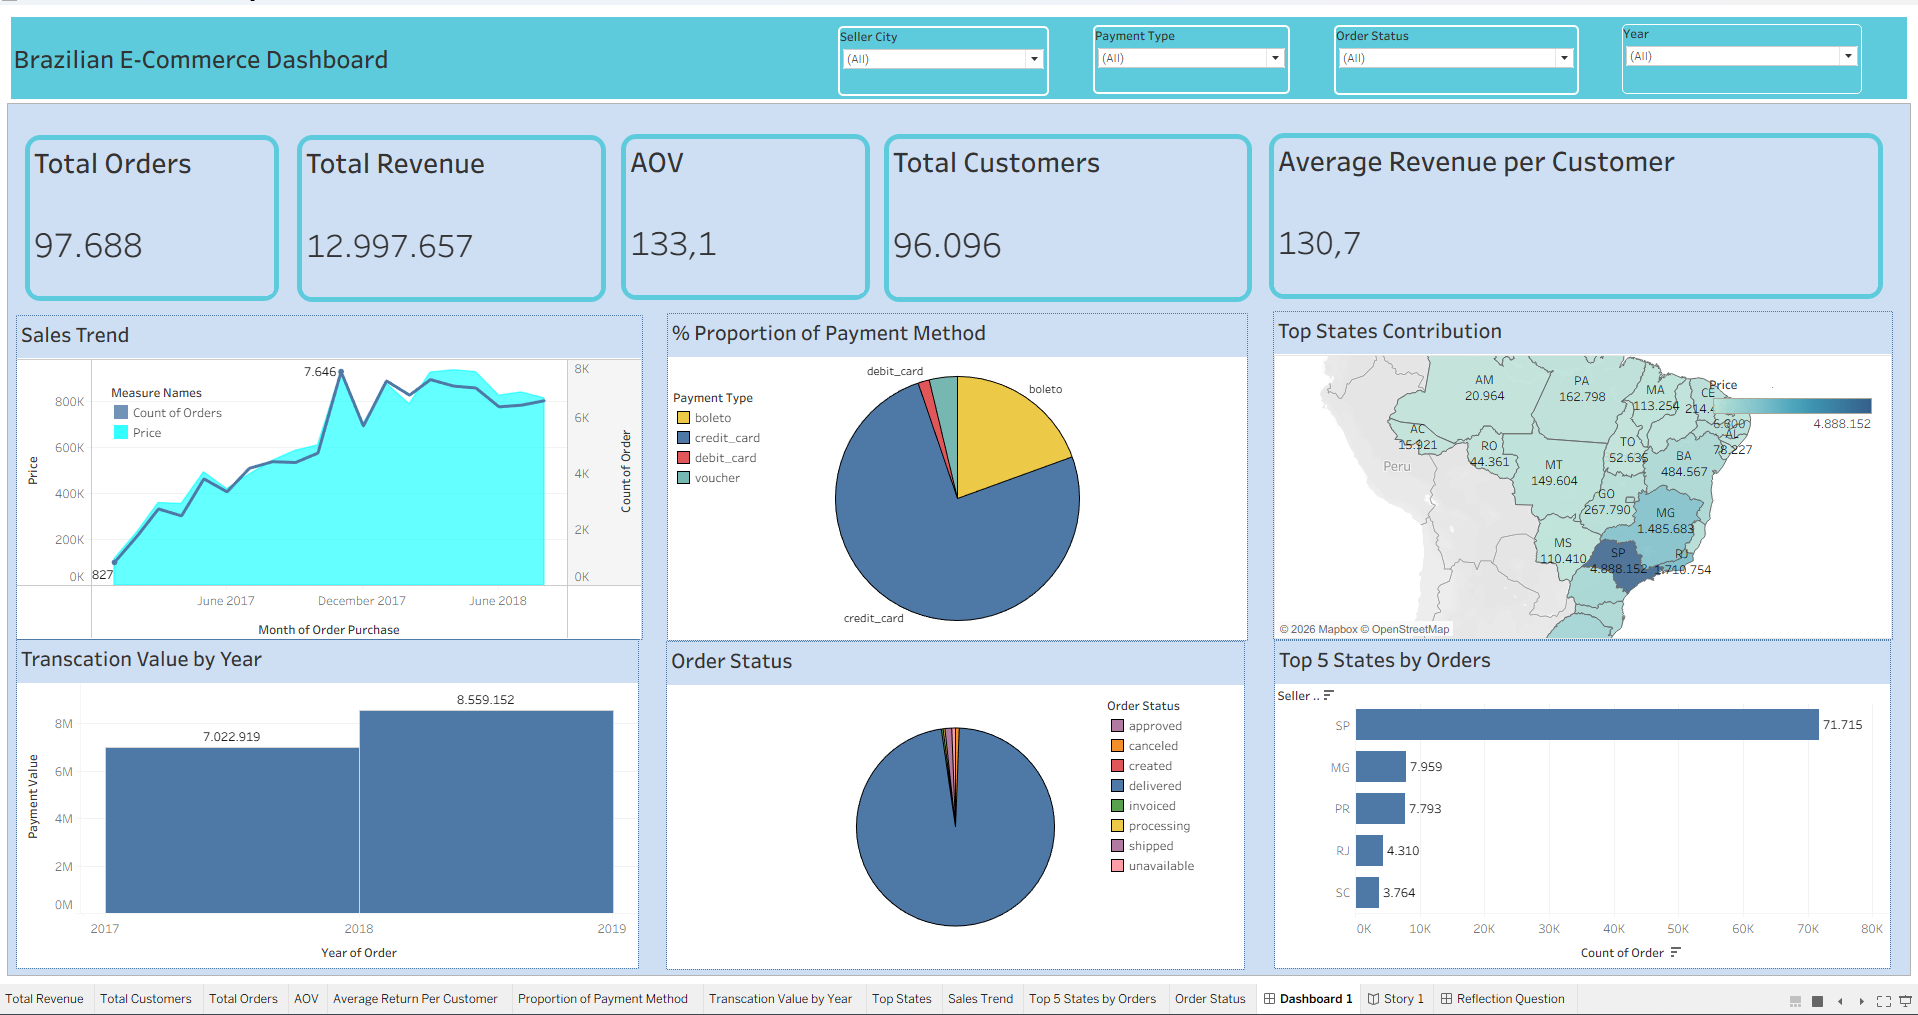

This screenshot's page, from the dashboard's own definition file:
{"tool":"tableau","page":{"name":"Dashboard 1","canvas":[1000,1000],"units":"permille","ordinal":0},"visuals":[{"type":"title","box":[4.7,8.9,990.6,100.5]},{"type":"filter","title":"Top 5 States by Orders","param":"[federated.03m56cd1unkf180zoet7000ny26o].[none:payment_type:nk]","box":[569.6,13.4,102.6,83.7]},{"type":"filter","title":"Total Orders","param":"[federated.03m56cd1unkf180zoet7000ny26o].[none:order_status:nk]","box":[695.3,14.5,127.5,82.6]},{"type":"filter","title":"Total Orders","param":"[federated.03m56cd1unkf180zoet7000ny26o].[yr:order_purchase_timestamp:ok]","box":[846.4,15.6,125,81.5]},{"type":"filter","title":"Top 5 States by Orders","param":"[federated.03m56cd1unkf180zoet7000ny26o].[none:seller_city:nk]","box":[437.2,17.9,110.1,81.5]},{"type":"worksheet","title":"Average Return Per Customer","mark":"Automatic","box":[661.7,130.6,319.7,169.6]},{"type":"worksheet","title":"AOV","mark":"Automatic","box":[324.2,131.7,129.9,169.6]},{"type":"worksheet","title":"Total Customers","mark":"Automatic","box":[460.8,131.7,191.5,171.9]},{"type":"worksheet","title":"Total Orders","mark":"Automatic","box":[13.7,132.8,132.5,169.6]},{"type":"worksheet","title":"Total Revenue","mark":"Automatic","box":[155.1,132.8,160.9,170.8]},{"type":"worksheet","title":"Top States","mark":"Multipolygon","box":[663.4,312.5,323,335.9]},{"type":"worksheet","title":"Proportion of Payment Method","mark":"Pie","box":[347.8,314.7,302.5,334.8]},{"type":"worksheet","title":"Sales Trend","mark":"Area","rows":["price","Order!Payments_F80399F9CA85411A9874D97EBB6932AC"],"cols":["order_purchase_timestamp"],"box":[8.7,317,326.7,331.5]},{"type":"legend","title":"Top States","param":"[federated.03m56cd1unkf180zoet7000ny26o].[sum:price:qk]","box":[890.7,379.5,87,84.8]},{"type":"legend","title":"Sales Trend","param":"[federated.03m56cd1unkf180zoet7000ny26o].[:Measure Names]","box":[58.4,387.3,87,64.7]},{"type":"legend","title":"Proportion of Payment Method","param":"[federated.03m56cd1unkf180zoet7000ny26o].[none:payment_type:nk]","box":[350.9,391.7,81.4,203.1]},{"type":"worksheet","title":"Transcation Value by Year","mark":"Bar","rows":["payment_value"],"cols":["order_purchase_timestamp"],"box":[8.7,647.3,324.6,337.1]},{"type":"worksheet","title":"Top 5 States by Orders","mark":"Bar","rows":["seller_state"],"cols":["Order!Payments_F80399F9CA85411A9874D97EBB6932AC"],"box":[664.2,648.4,321.5,335.9]},{"type":"worksheet","title":"Order Status","mark":"Pie","box":[347.6,649.6,301.6,335.9]},{"type":"legend","title":"Order Status","param":"[federated.03m56cd1unkf180zoet7000ny26o].[none:order_status:nk]","box":[577,706.5,77.6,237.7]}]}

Visuals, with their boxes on the dashboard's canvas, which has no fixed pixel size, in thousandths of its width and height (x1, y1, x2, y2). These are canvas units, not pixel positions in the 1918x1015 screenshot, which may show the page scaled, cropped or inside an application window:
title: [x1=5, y1=9, x2=995, y2=109]
"Top 5 States by Orders" filter: [x1=570, y1=13, x2=672, y2=97]
"Total Orders" filter: [x1=695, y1=14, x2=823, y2=97]
"Total Orders" filter: [x1=846, y1=16, x2=971, y2=97]
"Top 5 States by Orders" filter: [x1=437, y1=18, x2=547, y2=99]
"Average Return Per Customer" worksheet: [x1=662, y1=131, x2=981, y2=300]
"AOV" worksheet: [x1=324, y1=132, x2=454, y2=301]
"Total Customers" worksheet: [x1=461, y1=132, x2=652, y2=304]
"Total Orders" worksheet: [x1=14, y1=133, x2=146, y2=302]
"Total Revenue" worksheet: [x1=155, y1=133, x2=316, y2=304]
"Top States" worksheet (Multipolygon marks): [x1=663, y1=312, x2=986, y2=648]
"Proportion of Payment Method" worksheet (Pie marks): [x1=348, y1=315, x2=650, y2=650]
"Sales Trend" worksheet (Area marks): [x1=9, y1=317, x2=335, y2=648]
"Top States" legend: [x1=891, y1=380, x2=978, y2=464]
"Sales Trend" legend: [x1=58, y1=387, x2=145, y2=452]
"Proportion of Payment Method" legend: [x1=351, y1=392, x2=432, y2=595]
"Transcation Value by Year" worksheet (Bar marks): [x1=9, y1=647, x2=333, y2=984]
"Top 5 States by Orders" worksheet (Bar marks): [x1=664, y1=648, x2=986, y2=984]
"Order Status" worksheet (Pie marks): [x1=348, y1=650, x2=649, y2=986]
"Order Status" legend: [x1=577, y1=706, x2=655, y2=944]
